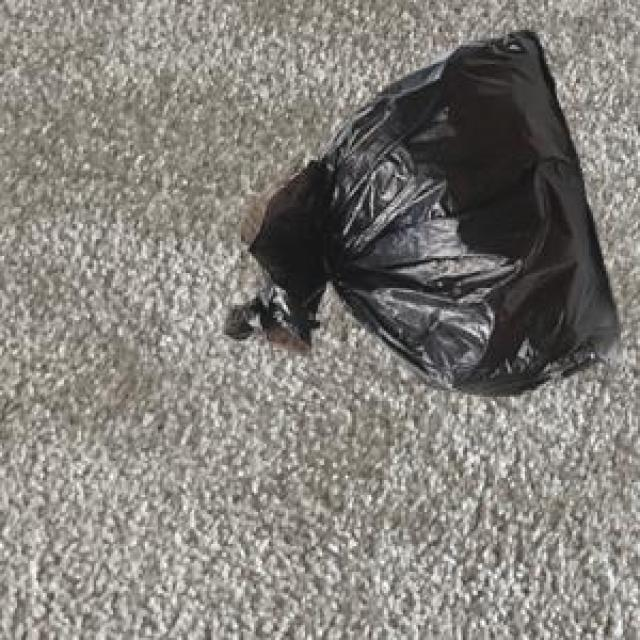Trashbag: (215, 24, 624, 405)
